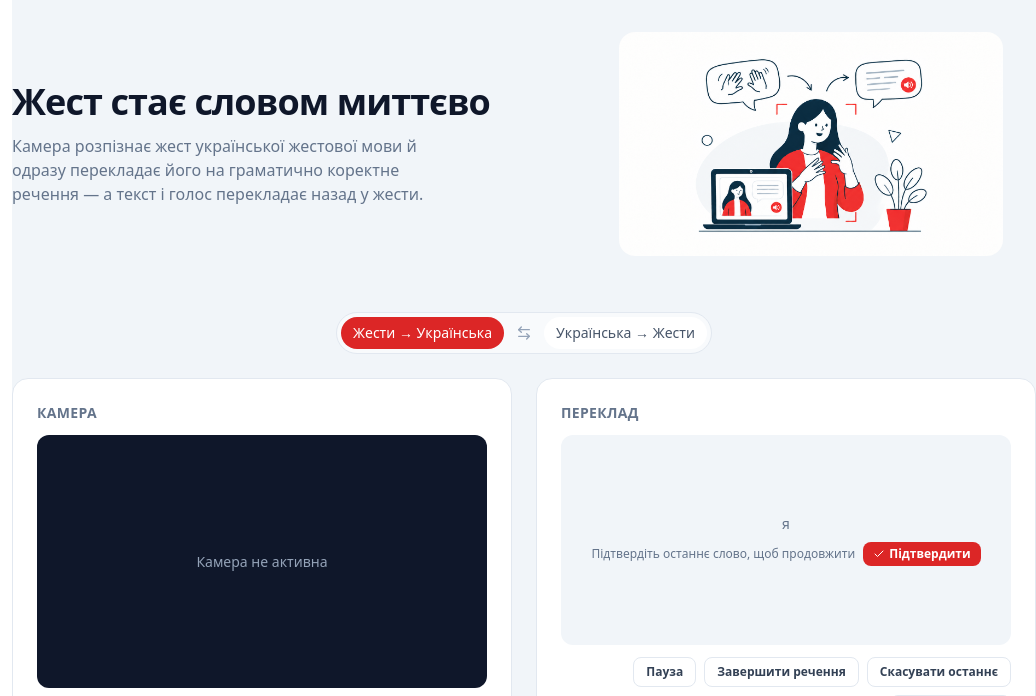
Test case: TranslatorView › 'Скасувати останнє' on a still-pending word clears the confirm banner along with the word itself
Expected: the element with test id "confirm-pending-banner" is shown, [591, 542, 980, 566]
Click the button "Скасувати останнє" at (939, 672), box [867, 657, 1011, 687]
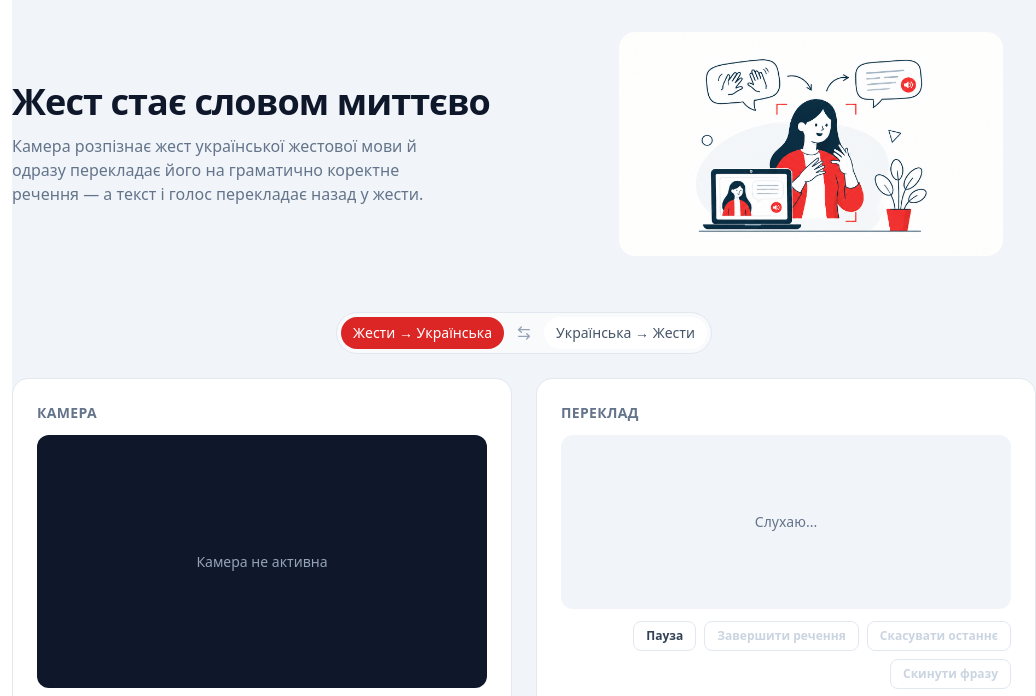
Result: the element with test id "confirm-pending-banner" is gone
